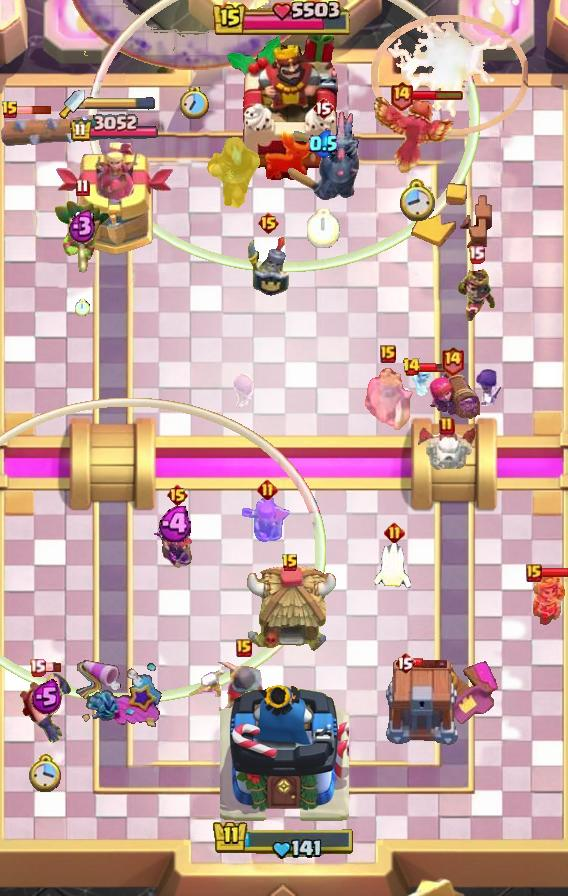bar: (54, 142, 173, 256)
barbarian-evolution: (371, 14, 528, 136)
bat: (373, 537, 415, 591)
bomb: (383, 660, 461, 746)
bomber-evolution: (454, 267, 498, 321), (528, 574, 566, 626)
clock: (212, 819, 356, 861), (213, 0, 355, 38)
electro-spirit: (158, 506, 196, 542), (31, 679, 61, 715), (67, 208, 96, 244), (310, 129, 339, 158)
elixir: (397, 177, 435, 221), (28, 752, 64, 792), (308, 208, 341, 247), (179, 87, 208, 119), (75, 300, 89, 316)
emote: (412, 89, 465, 101), (413, 657, 449, 669), (418, 362, 454, 373), (16, 105, 51, 115), (540, 567, 568, 578), (42, 663, 61, 674)
evolution-symbol: (154, 512, 200, 582), (240, 491, 294, 547)
firecracker: (213, 662, 275, 728)
goblin: (472, 368, 504, 408), (230, 371, 257, 409)
goblin-barrel: (52, 199, 112, 275)
golden-knight: (373, 91, 459, 173)
golemite: (287, 109, 359, 203)
heal-spirit: (180, 669, 228, 701), (408, 363, 436, 397)
inferno-dragon: (205, 132, 261, 208)
king-tower: (219, 678, 349, 826), (224, 23, 344, 181)
king-tower-bar: (85, 97, 155, 111)
mega-minion: (424, 368, 480, 430)
mini-pekka: (415, 424, 479, 472)
minion: (0, 114, 107, 150)
monk: (18, 670, 74, 744)
mortar-evolution: (360, 367, 416, 433)
prince: (243, 564, 337, 654)
princess: (246, 237, 290, 297)
rocket: (66, 1, 322, 72)
selected: (68, 113, 159, 142)
text: (390, 81, 415, 112), (440, 345, 465, 376), (256, 211, 280, 235), (166, 483, 189, 507), (312, 96, 334, 120), (394, 651, 416, 675), (257, 479, 279, 501), (383, 521, 405, 543), (402, 357, 422, 377), (1, 100, 19, 120), (281, 553, 299, 573), (467, 245, 485, 263), (29, 659, 46, 678), (439, 416, 455, 436), (380, 345, 396, 363), (526, 564, 542, 582), (236, 639, 252, 657), (75, 178, 89, 197)
